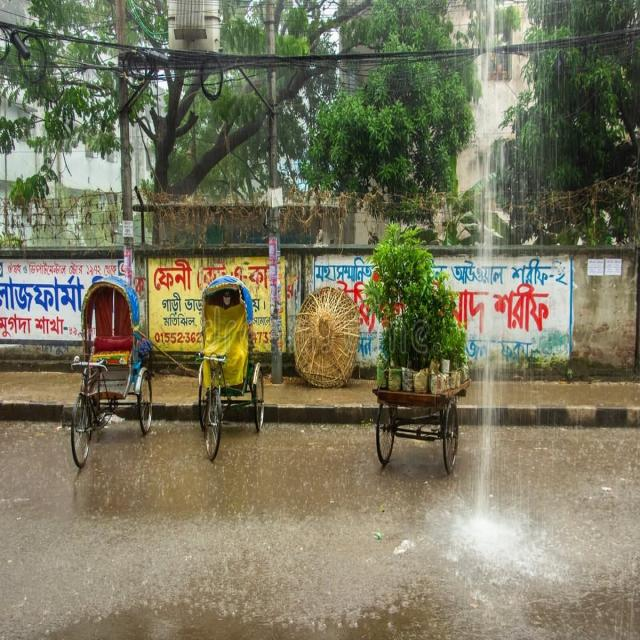Rickshaw: (61, 276, 154, 470), (191, 264, 267, 462)
Van: (359, 372, 476, 480)
